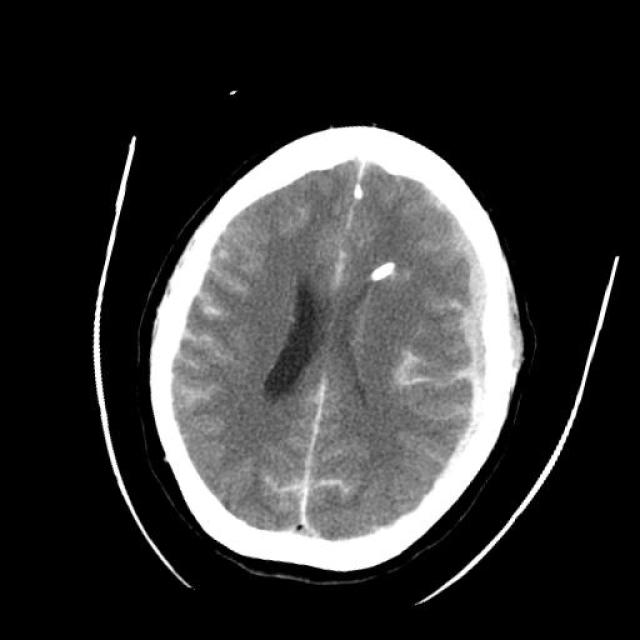Subarachnoid: (134, 202, 278, 478), (244, 448, 380, 526), (381, 332, 483, 432)
Subdural: (408, 227, 546, 465)
